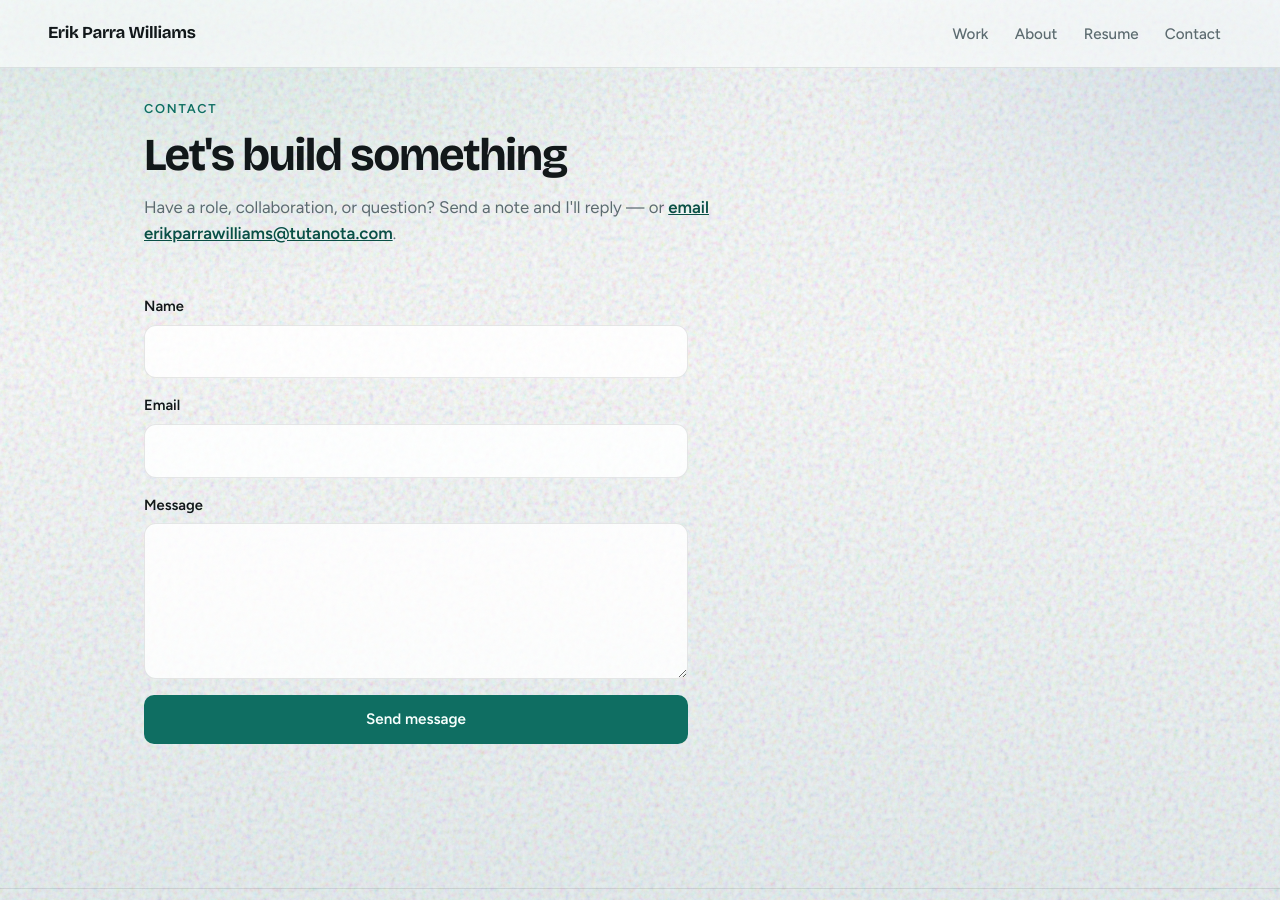
Test case: App › shows contact validation when email is invalid
(page scrolled)
Type "not-an-email" into the field labelled "Email" at (416, 451), box x1=144 y1=424 x2=688 y2=478
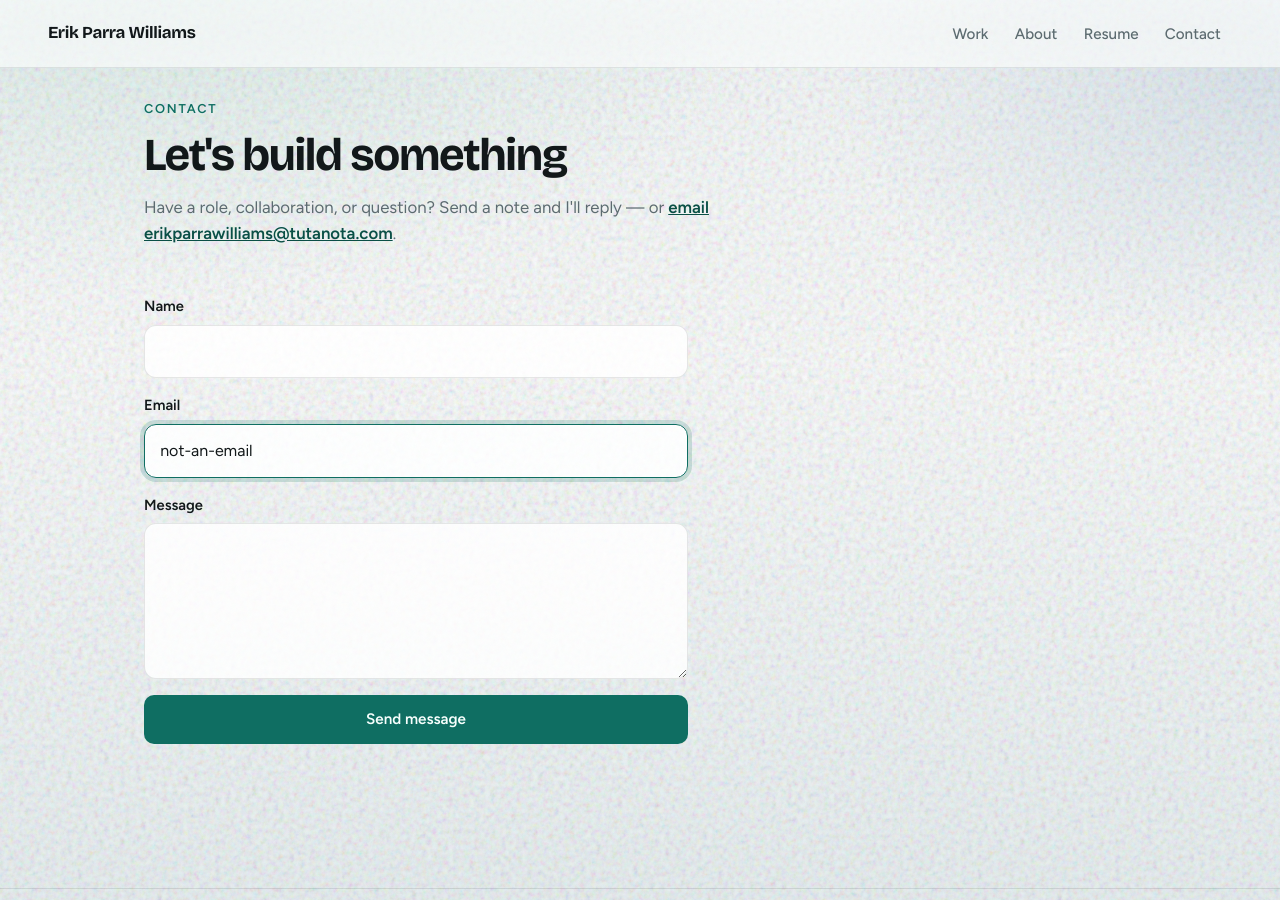
Press Tab
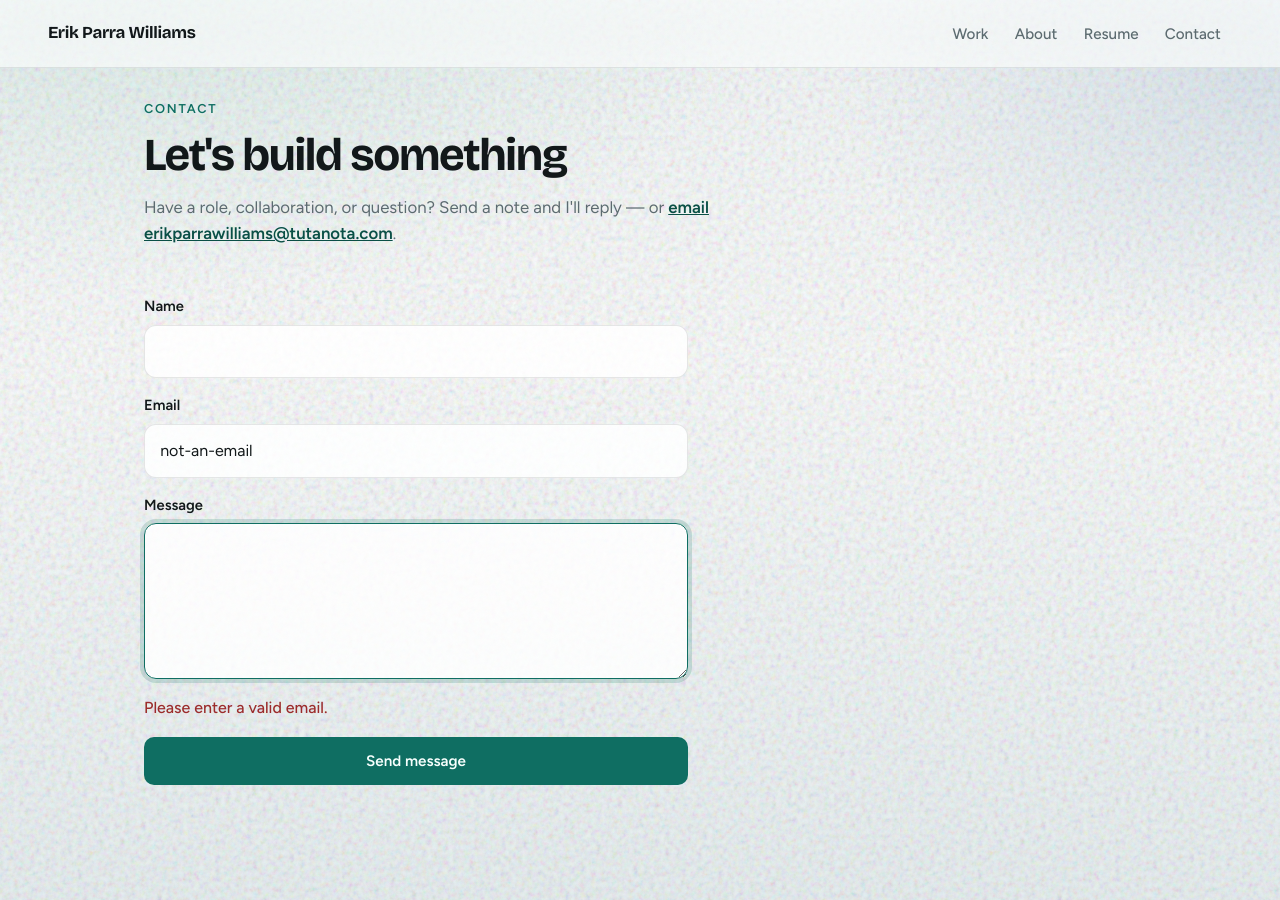
Expected: the text "Please enter a valid email." is shown, x1=144 y1=698 x2=327 y2=717
